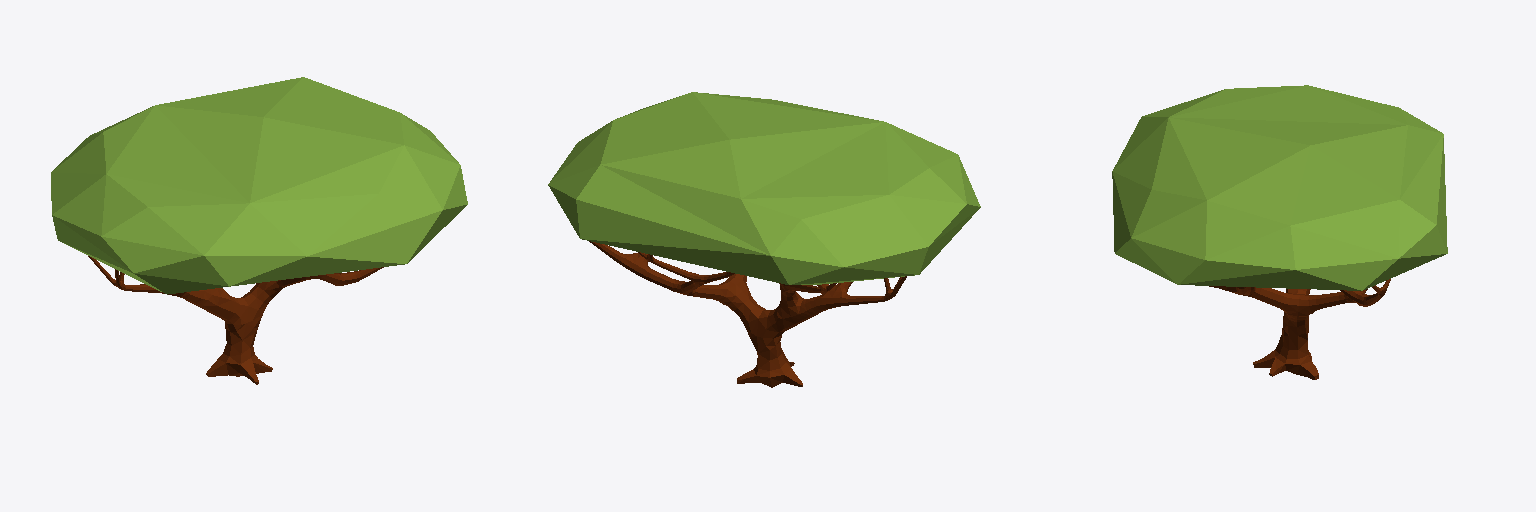
File: AcaciaTree.obj
3 views of the same model, side by side, from view 1: azimuth 30°, elevation 25°; view 2: azimuth 150°, elevation 25°; view 3: azimuth 270°, elevation 25° (orthographic).
Visible parts, largest first — view 1: Acacia; view 2: Acacia; view 3: Acacia.
Part boxes in pixels (x1,y1,x2,y2): Acacia: (51,77,467,384); Acacia: (548,92,980,387); Acacia: (1112,85,1447,379).
Bounding box in the file's own units: 8.87 × 5.67 × 7.06.